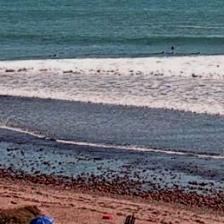surfer: (155, 51, 165, 54), (166, 52, 174, 55), (48, 54, 56, 57), (191, 52, 201, 54), (172, 45, 174, 50), (217, 65, 220, 68)
